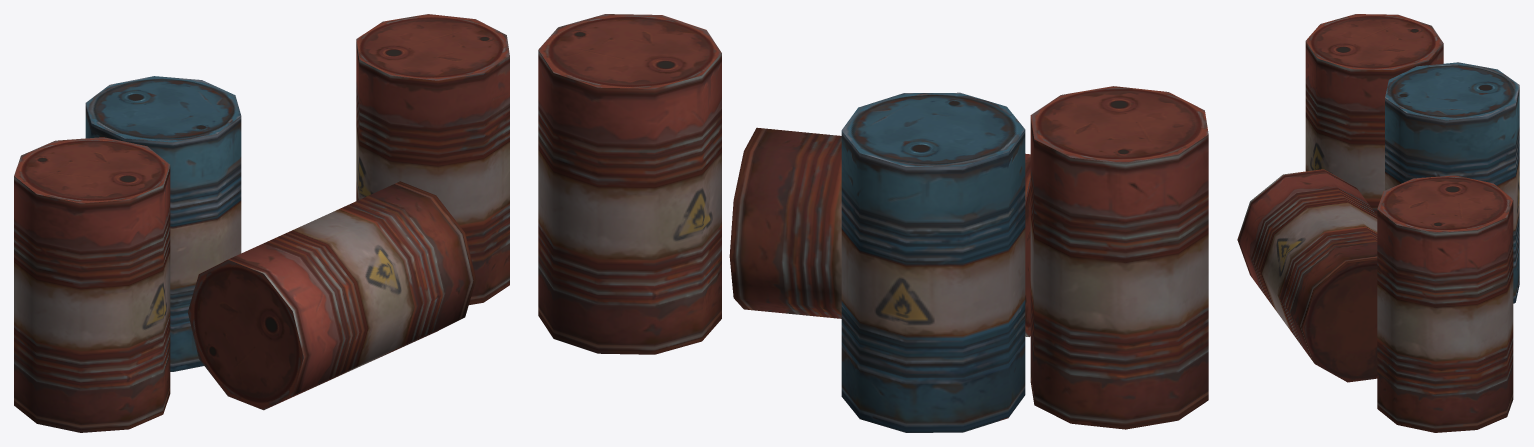
The model's file is mn_oildrum.FBX.
The picture shows the model from 3 angles, left to right: view 1: azimuth 30°, elevation 25°; view 2: azimuth 150°, elevation 25°; view 3: azimuth 270°, elevation 25°; orthographic projection. The views are drawn at different scales.
Parts seen in each view (by area): view 1: mn_oildrum; view 2: mn_oildrum; view 3: mn_oildrum.
Part boxes in pixels (x1,y1,x2,y2): mn_oildrum: (14, 14, 509, 432); mn_oildrum: (538, 14, 1208, 432); mn_oildrum: (1237, 14, 1519, 432).
Size of the model in its own units: 79.03 by 33.77 by 43.02.
Materials: 1 (1 with a texture image).
